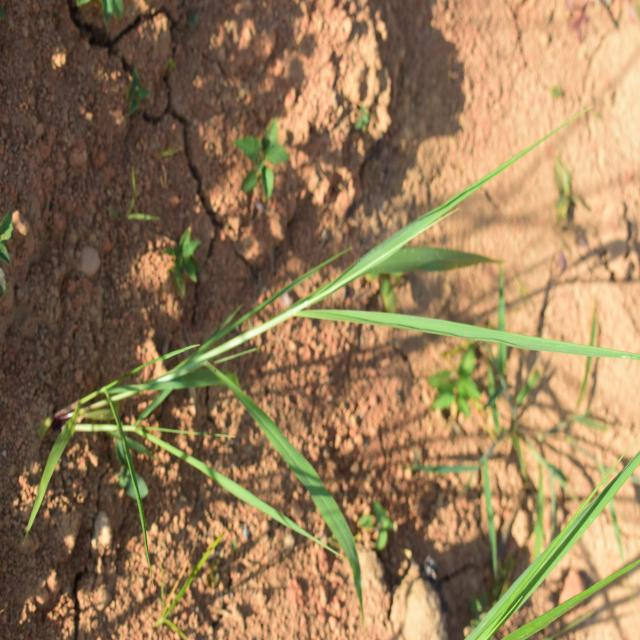green_foxtail: (87, 228, 477, 542)
